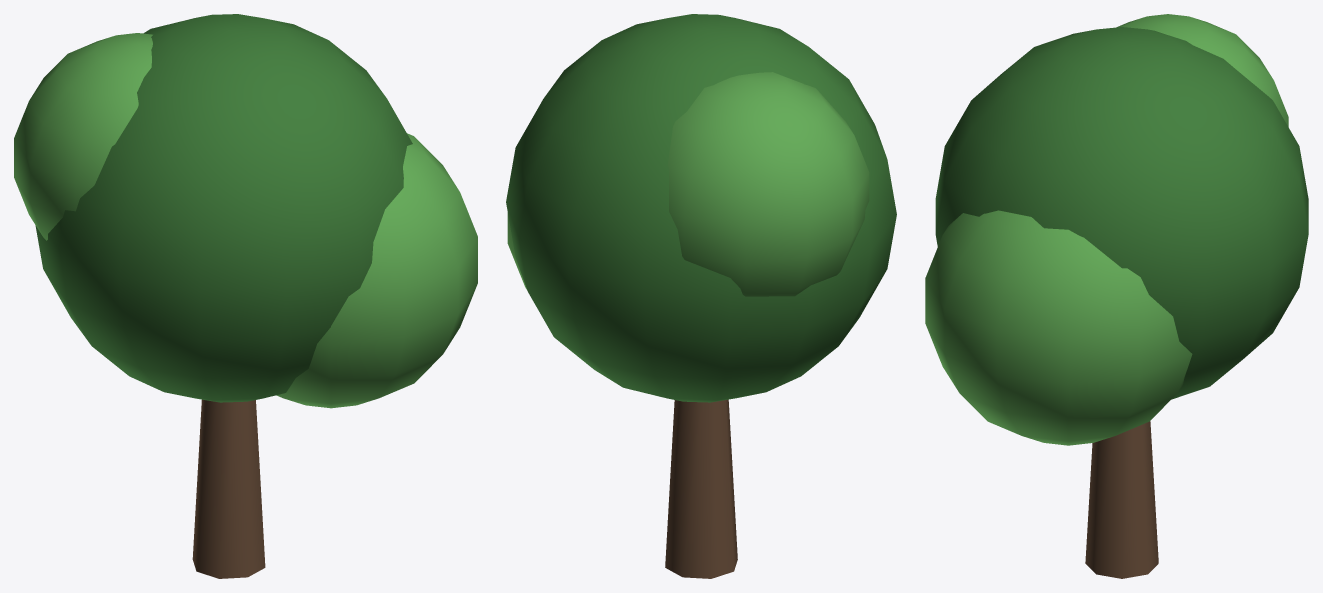
The model's file is tree.gltf.
3 views of the same model, side by side, from view 1: azimuth 30°, elevation 25°; view 2: azimuth 150°, elevation 25°; view 3: azimuth 270°, elevation 25° (orthographic). The views are drawn at different scales.
Visible parts, largest first — view 1: tree; view 2: tree; view 3: tree.
Boxes of the visible parts, x1,y1,x2,y2 form: tree: (14, 14, 477, 578); tree: (506, 14, 896, 578); tree: (925, 14, 1308, 578).
Bounding box in the file's own units: 2.77 × 3.75 × 2.5.
